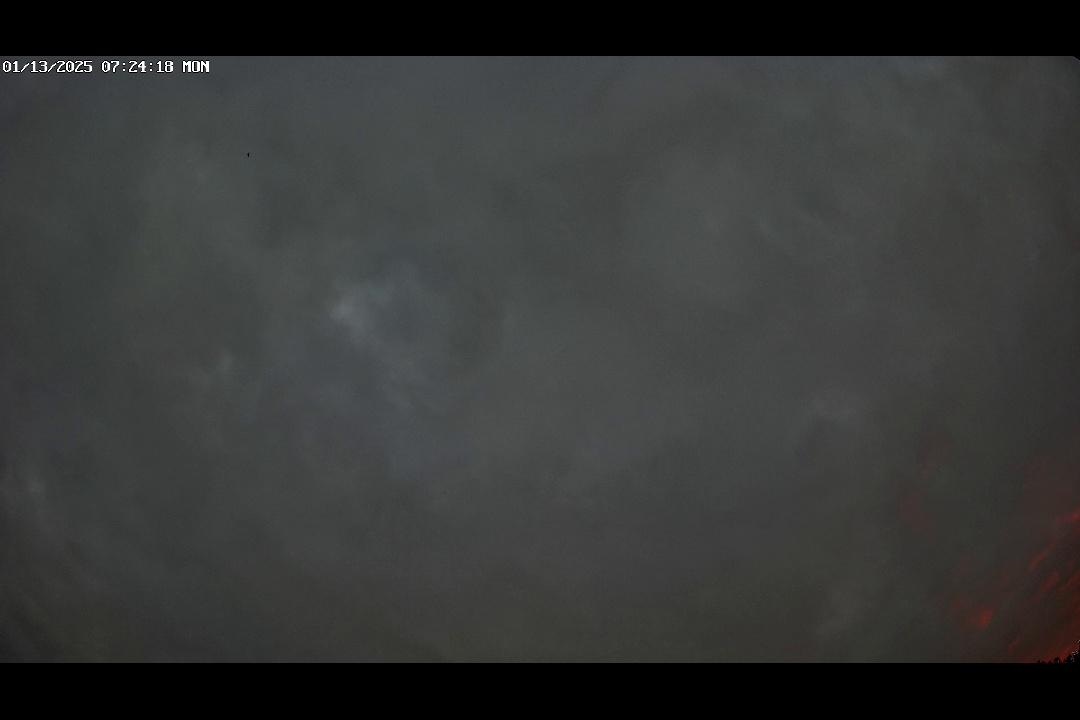WildLife: (237, 144, 259, 160)
